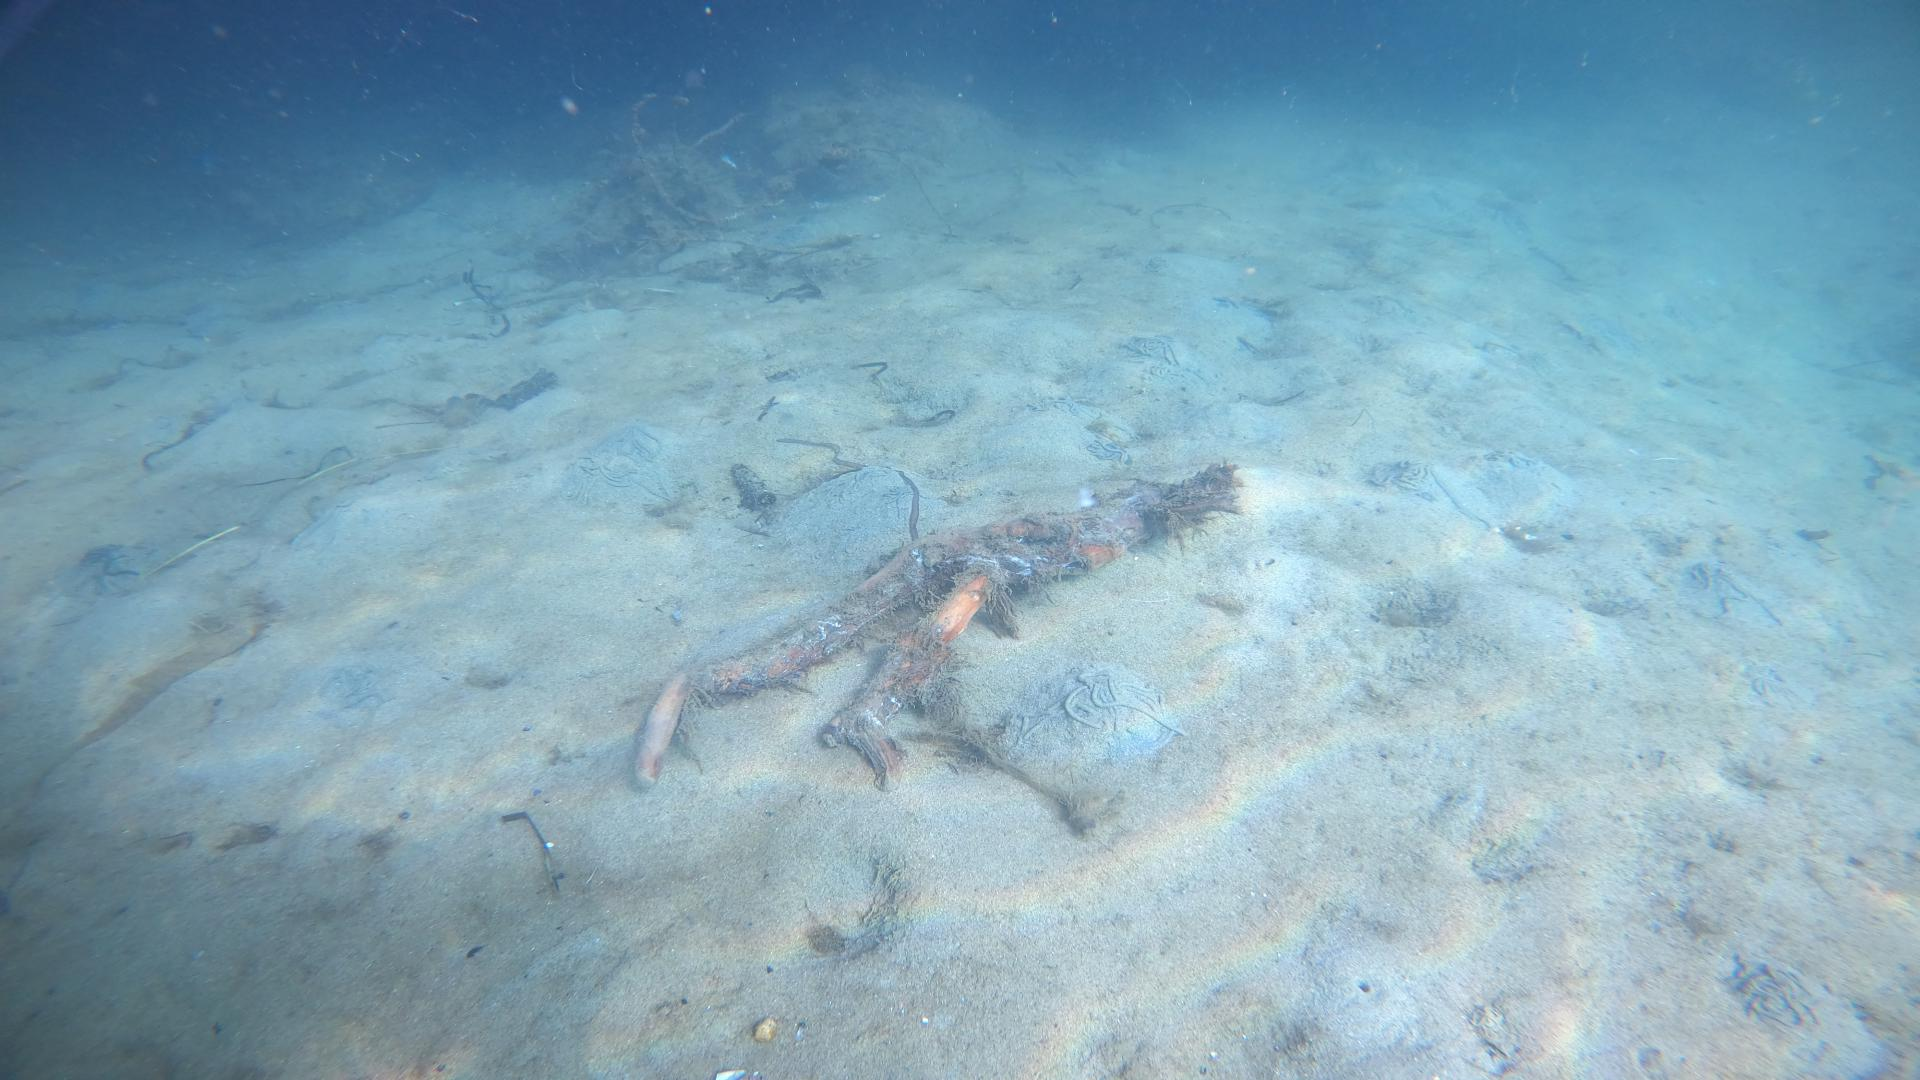wood: (632, 465, 1234, 793)
